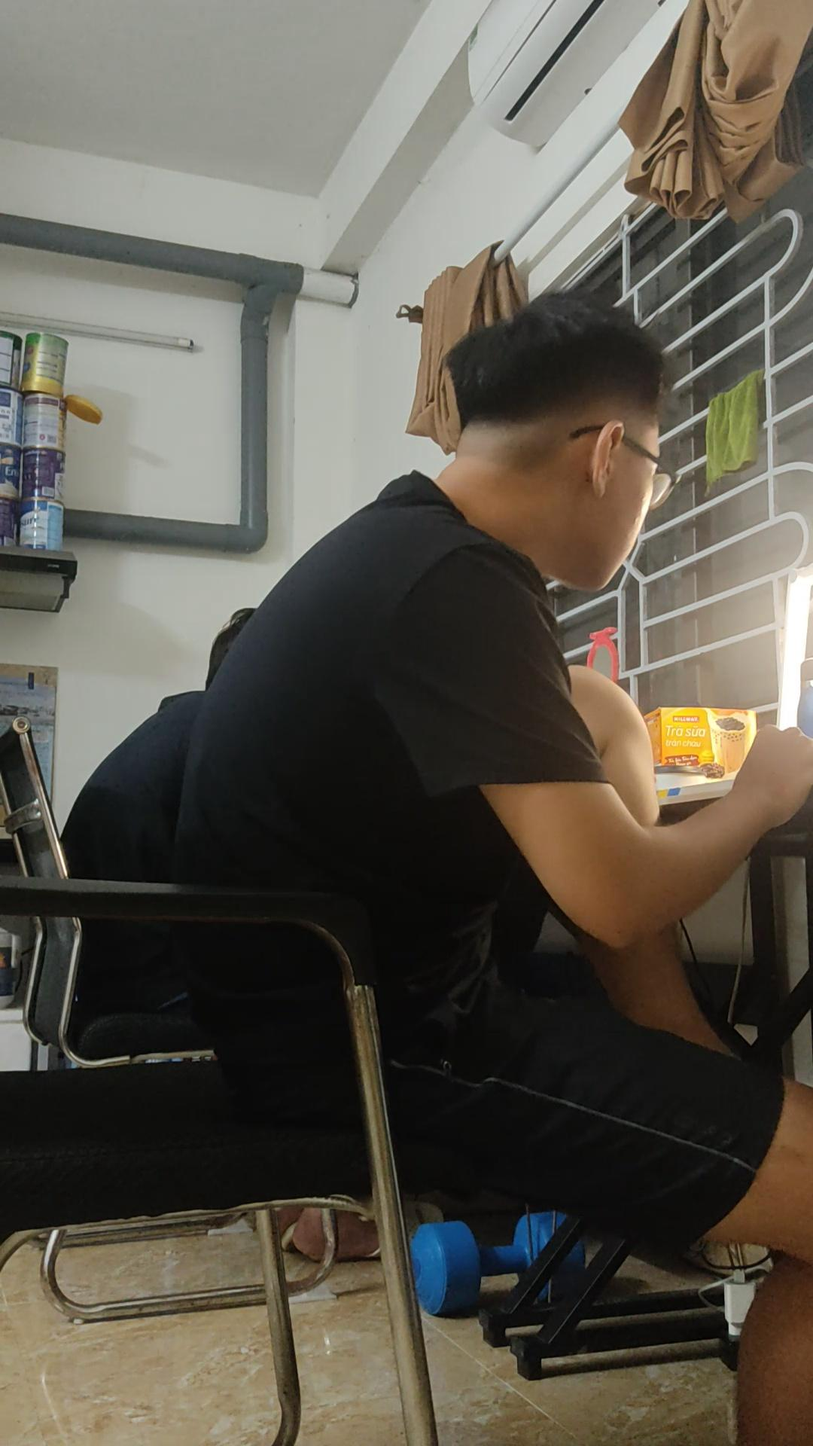BadPosture: (191, 299, 809, 1424)
